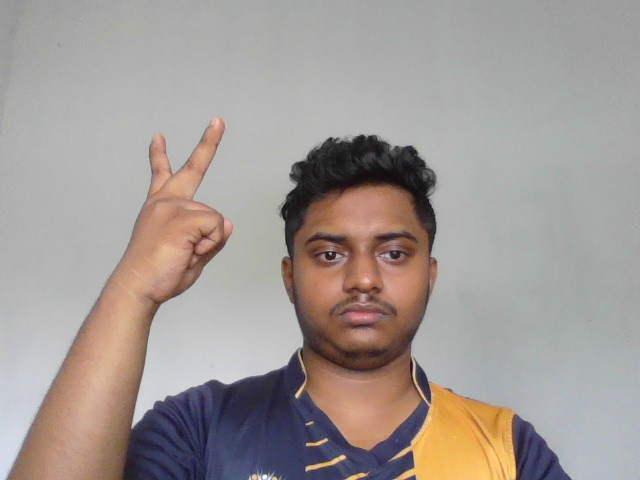See You: (121, 118, 238, 307)
